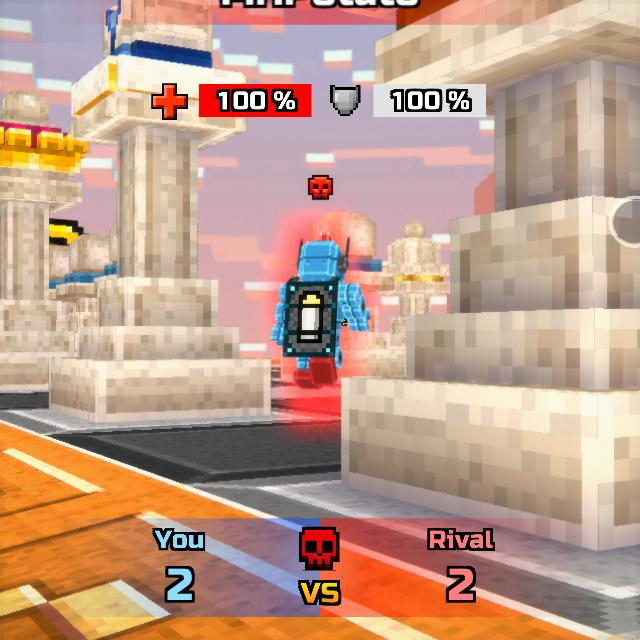Enemy: (272, 238, 372, 388)
